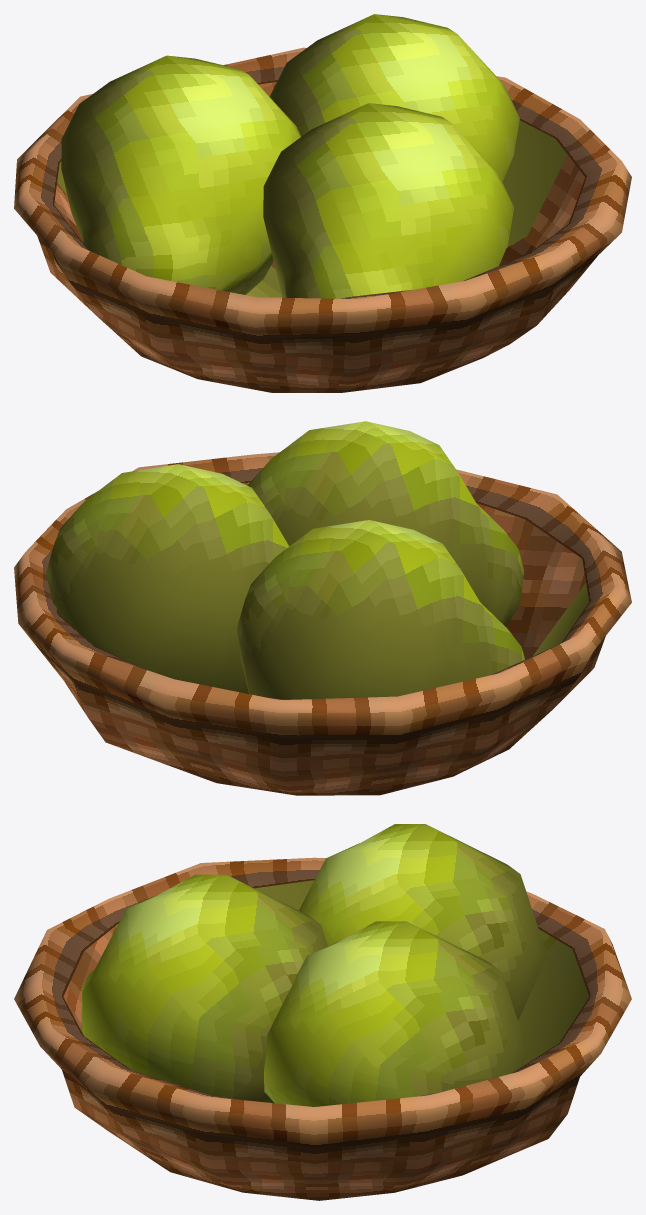
Rendered from int_fru_coconut.dae.
3 renders of one model, top to bottom at view 1: azimuth 30°, elevation 25°; view 2: azimuth 150°, elevation 25°; view 3: azimuth 270°, elevation 25°, orthographic.
Visible parts, largest first — view 1: int_fru_coconut; view 2: int_fru_coconut; view 3: int_fru_coconut.
Part boxes in pixels (box(x1,y1,x2,y2)): int_fru_coconut: box(14, 14, 631, 392); int_fru_coconut: box(14, 421, 631, 795); int_fru_coconut: box(14, 824, 631, 1200).
Size of the model in its own units: 28.3 by 11.63 by 28.27.
1 material, 1 textured.
